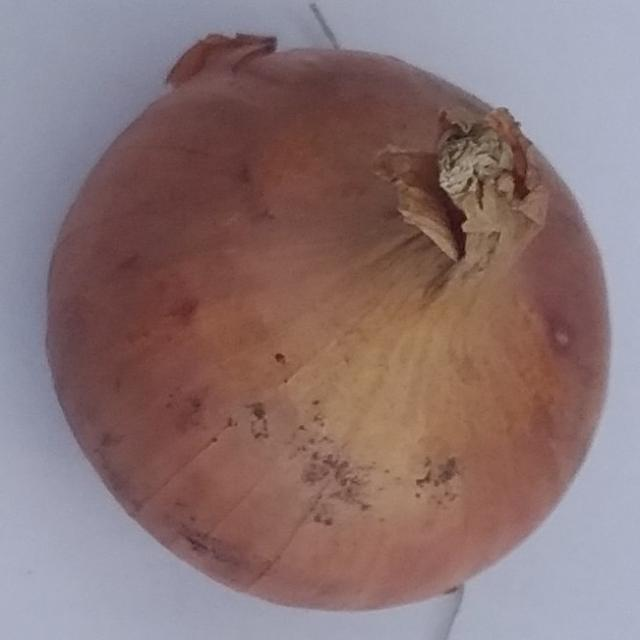onion: (46, 30, 612, 610)
